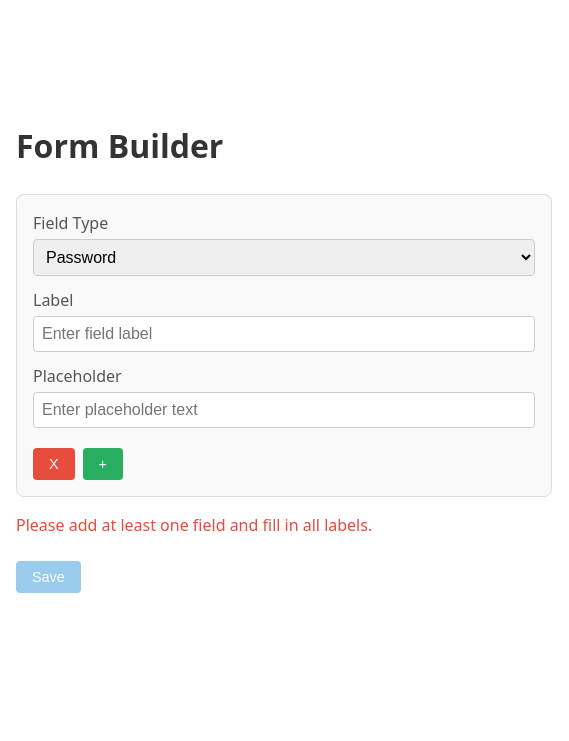
Test: Form Builder › should remove a field when clicking X and confirming
Click the button named "Add new field": (103, 464) top-left (83, 448), bottom-right (123, 480)
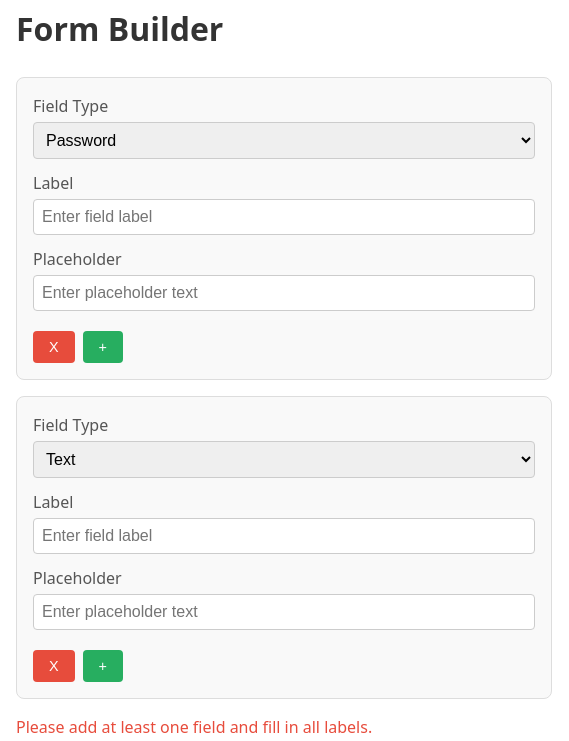
Expected: the number of elements with class "field-row" is 2, top-left (16, 77), bottom-right (552, 380); top-left (16, 396), bottom-right (552, 699)
Click the button named "Remove field": (54, 347) top-left (33, 331), bottom-right (75, 363)
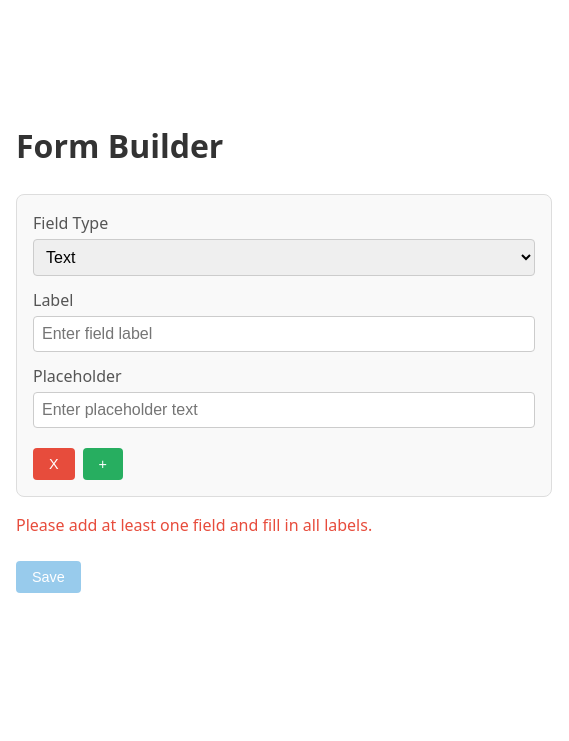
Expected: the number of elements with class "field-row" is 1, top-left (16, 194), bottom-right (552, 497)
